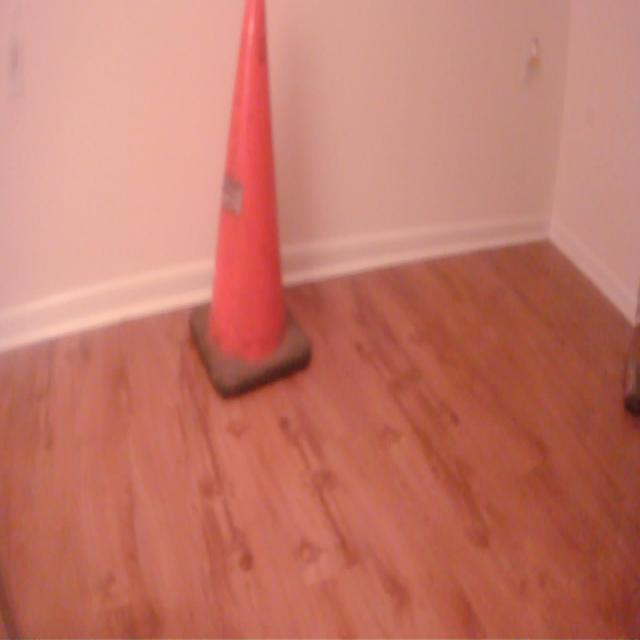traffic cone: (185, 1, 316, 405)
